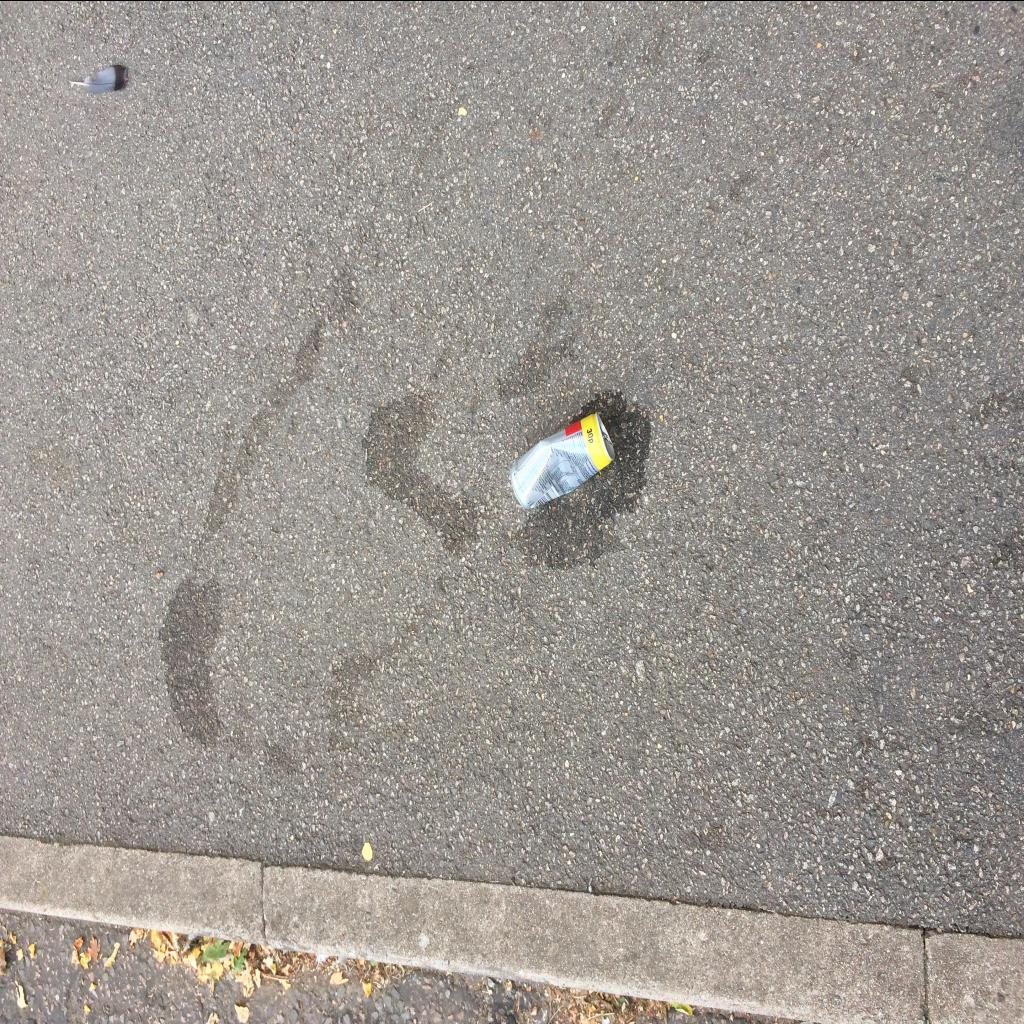Drink can: (511, 410, 615, 508)
Pop tab: (601, 428, 613, 445)
